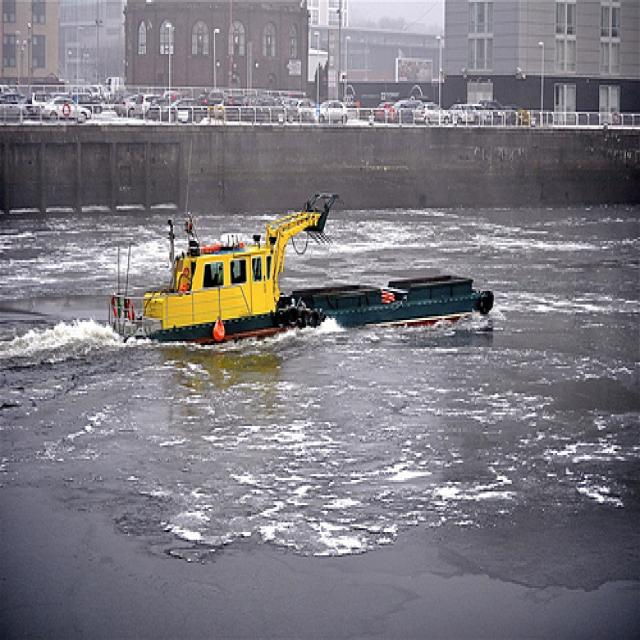Vehicle: (8, 83, 535, 131), (42, 98, 92, 120), (414, 102, 452, 124), (319, 100, 350, 126), (114, 92, 140, 118), (172, 98, 195, 126), (132, 94, 160, 115), (22, 92, 46, 116), (0, 94, 22, 117), (149, 97, 169, 122), (104, 77, 126, 99), (375, 100, 396, 120), (204, 90, 227, 106), (84, 87, 100, 99), (243, 94, 258, 105)
